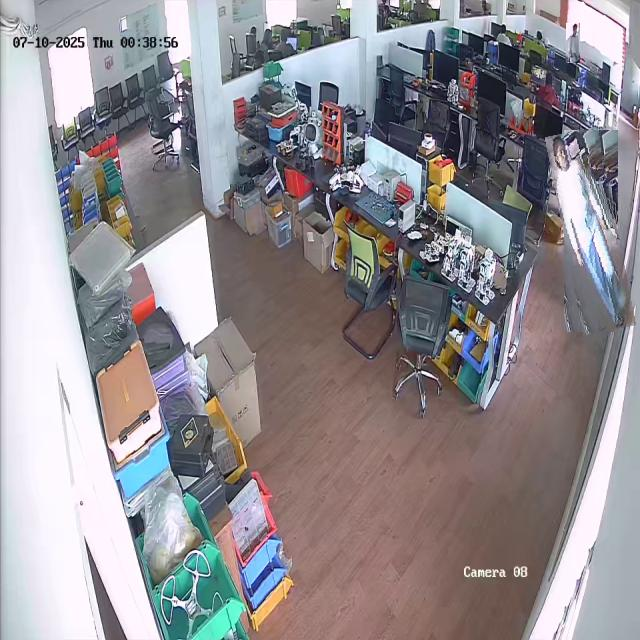person: (555, 129, 627, 333), (566, 23, 580, 63)
